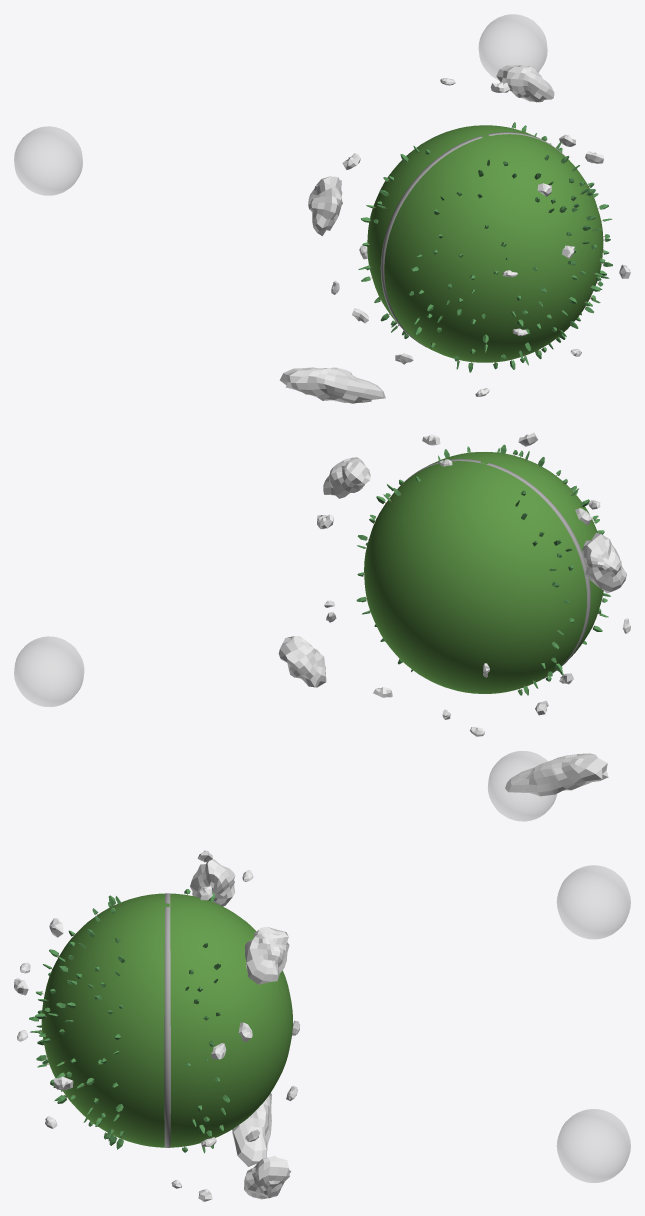
Rendered from world_sphere_02.fbx.
The picture shows the model from 3 angles, top to bottom: view 1: azimuth 30°, elevation 25°; view 2: azimuth 150°, elevation 25°; view 3: azimuth 270°, elevation 25°; orthographic projection. The views are drawn at different scales.
Visible parts, largest first — view 1: pSphere1, pSphere3, pSphere2, pCube125, pCube140, pCube121, pPipe1; view 2: pSphere1, pSphere3, pSphere2, pCube125, pCube140, pCube122, pCube121, pPipe1; view 3: pSphere1, pSphere3, pSphere2, pCube121, pPipe1, pCube125, pCube122, pCube140.
Part boxes in pixels (box(x1,y1,x2,y2)): pSphere1: box(367, 125, 603, 362); pSphere3: box(14, 126, 82, 195); pSphere2: box(478, 14, 547, 80); pCube125: box(279, 367, 385, 403); pCube140: box(308, 176, 342, 235); pCube121: box(496, 65, 554, 102); pPipe1: box(380, 132, 565, 347); pSphere1: box(364, 452, 603, 693); pSphere3: box(488, 751, 558, 821); pSphere2: box(14, 636, 84, 706); pCube125: box(505, 753, 608, 796); pCube140: box(582, 532, 626, 593); pCube122: box(278, 636, 326, 687); pCube121: box(323, 457, 370, 498); pPipe1: box(399, 459, 590, 678); pSphere1: box(41, 893, 292, 1147); pSphere3: box(556, 865, 630, 939); pSphere2: box(556, 1109, 630, 1182); pCube121: box(245, 927, 289, 984); pPipe1: box(164, 893, 170, 1147); pCube125: box(232, 1093, 271, 1166); pCube122: box(244, 1155, 291, 1199); pCube140: box(190, 859, 235, 906).
Size of the model in its own units: 507 by 285 by 483.
